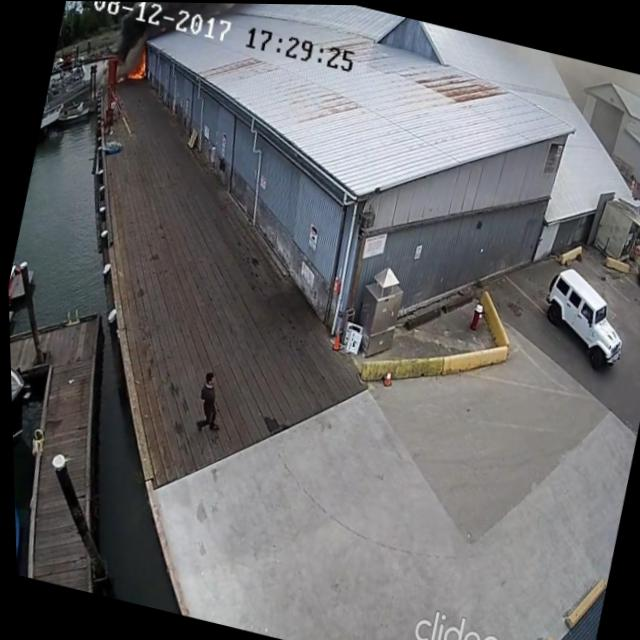fire: (123, 41, 152, 84)
